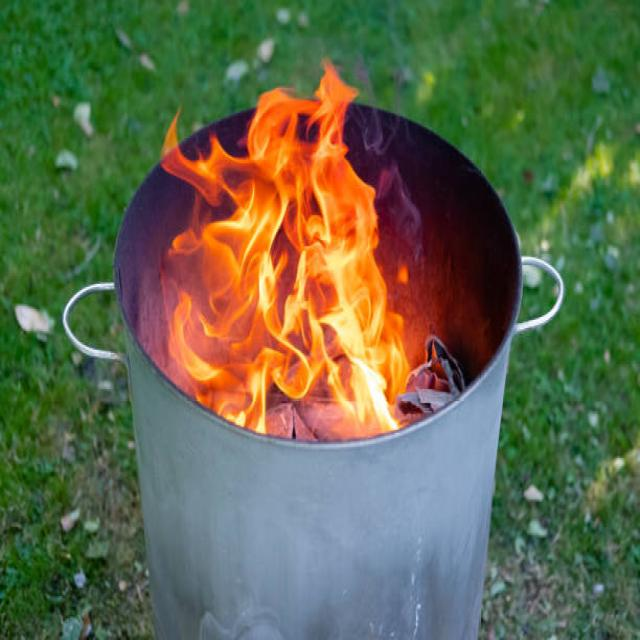fire: (158, 56, 413, 441), (413, 336, 451, 392)
